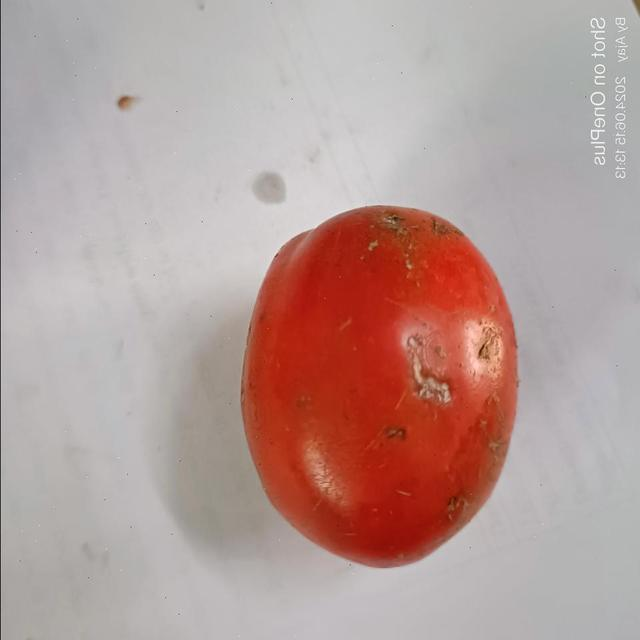Bacterial Spot Fruit: (18, 12, 300, 334)
